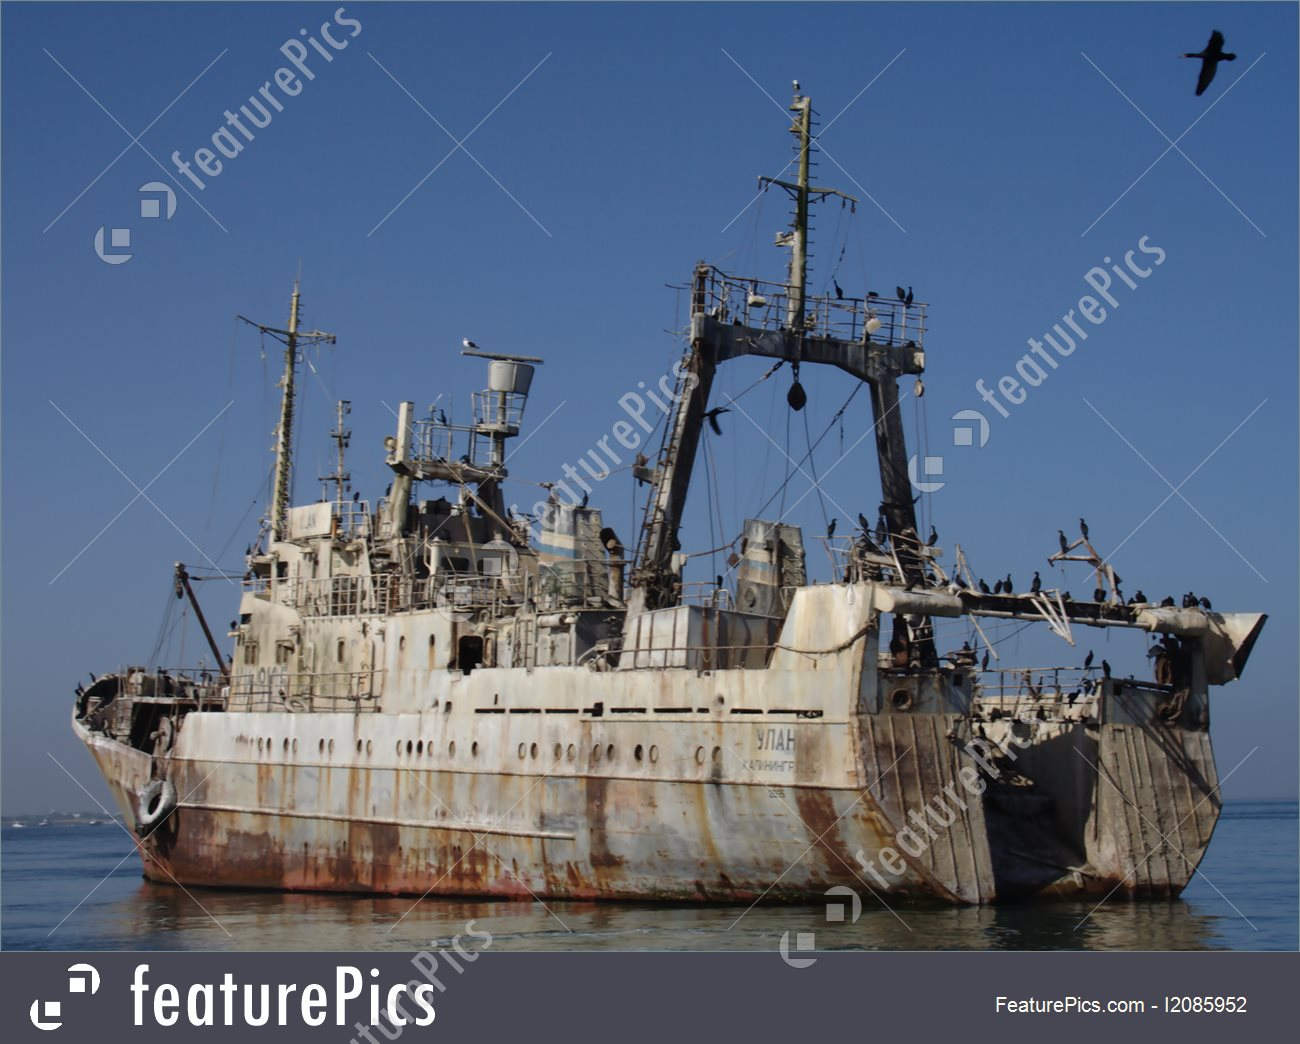rust: (170, 771, 225, 881), (580, 777, 629, 892), (350, 823, 411, 892), (797, 796, 844, 869), (439, 838, 502, 892), (247, 843, 279, 885)
